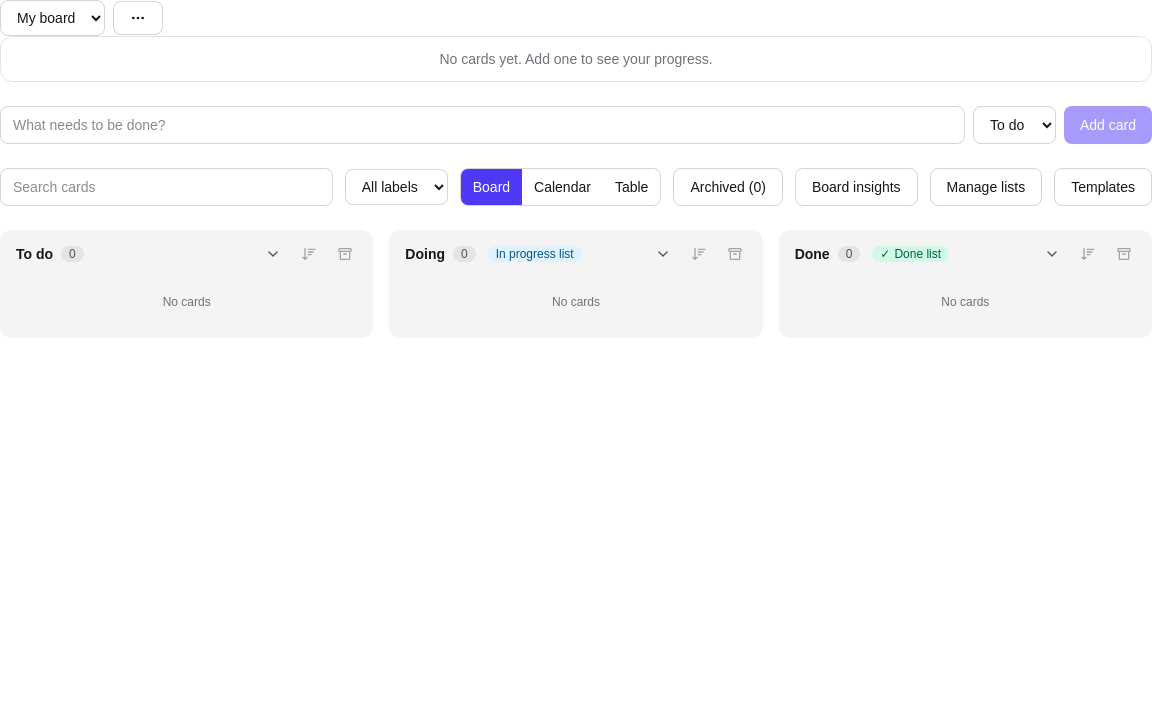
<BoardSwitcher /> roles › opens the share dialog with the no-email notice, for the owner
Click the button named "Board actions" at (138, 18), box [113, 1, 163, 35]
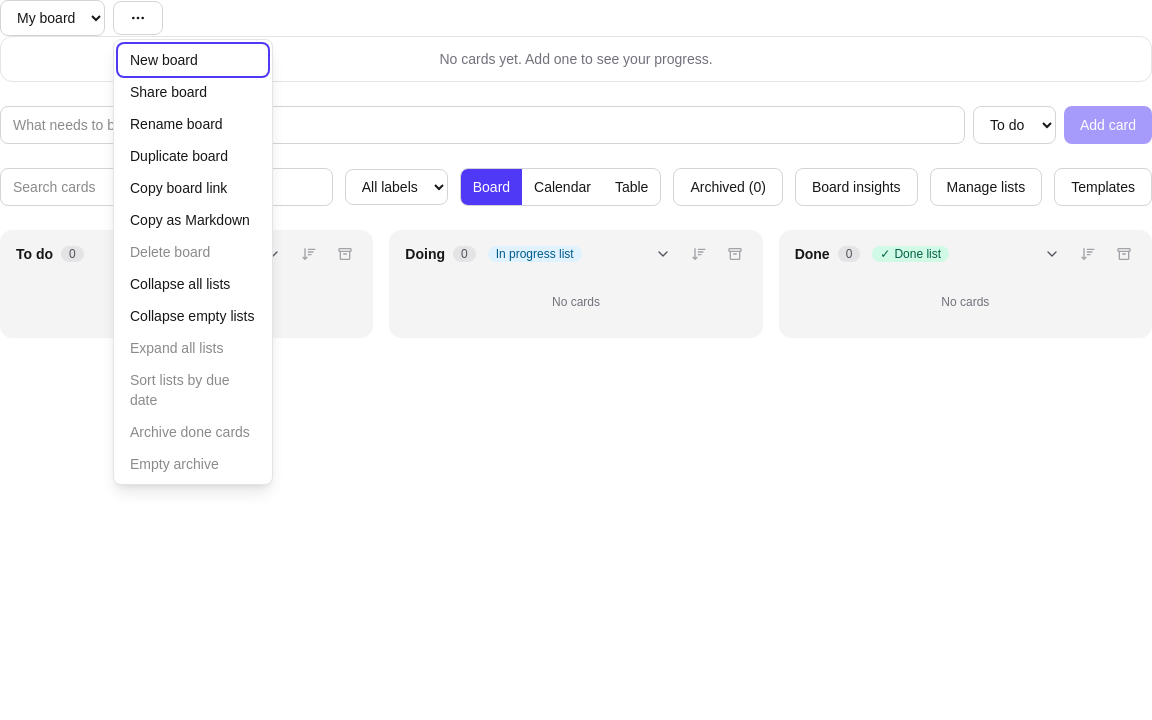
Click the menu item "Share board" at (193, 92), box [118, 76, 268, 108]
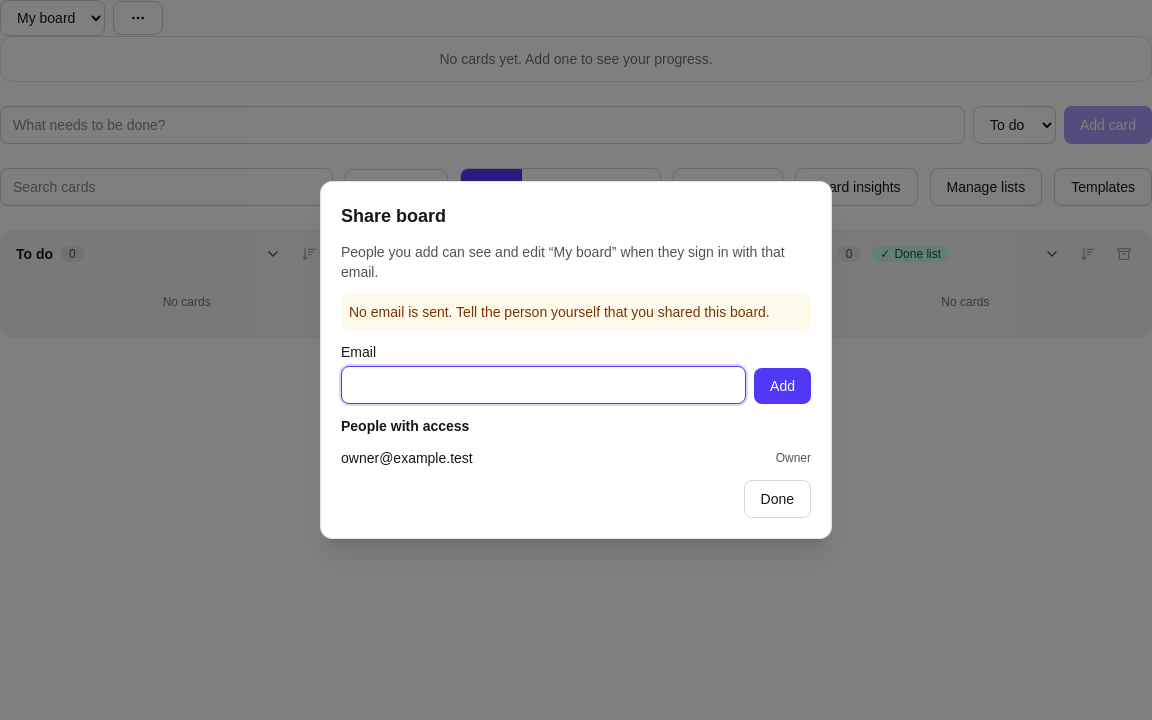
Now the text "No email is sent" is shown, box [349, 304, 770, 320]
Click the button "Done" at (777, 499), box [744, 480, 811, 518]
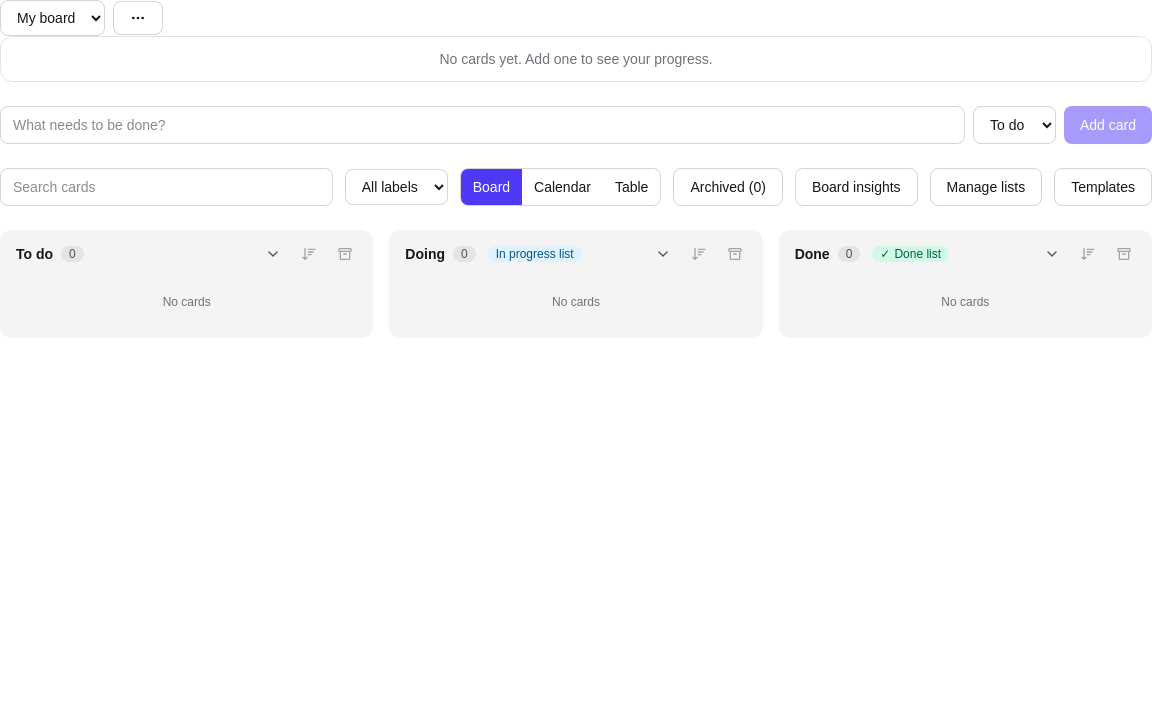
Now the dialog is gone
